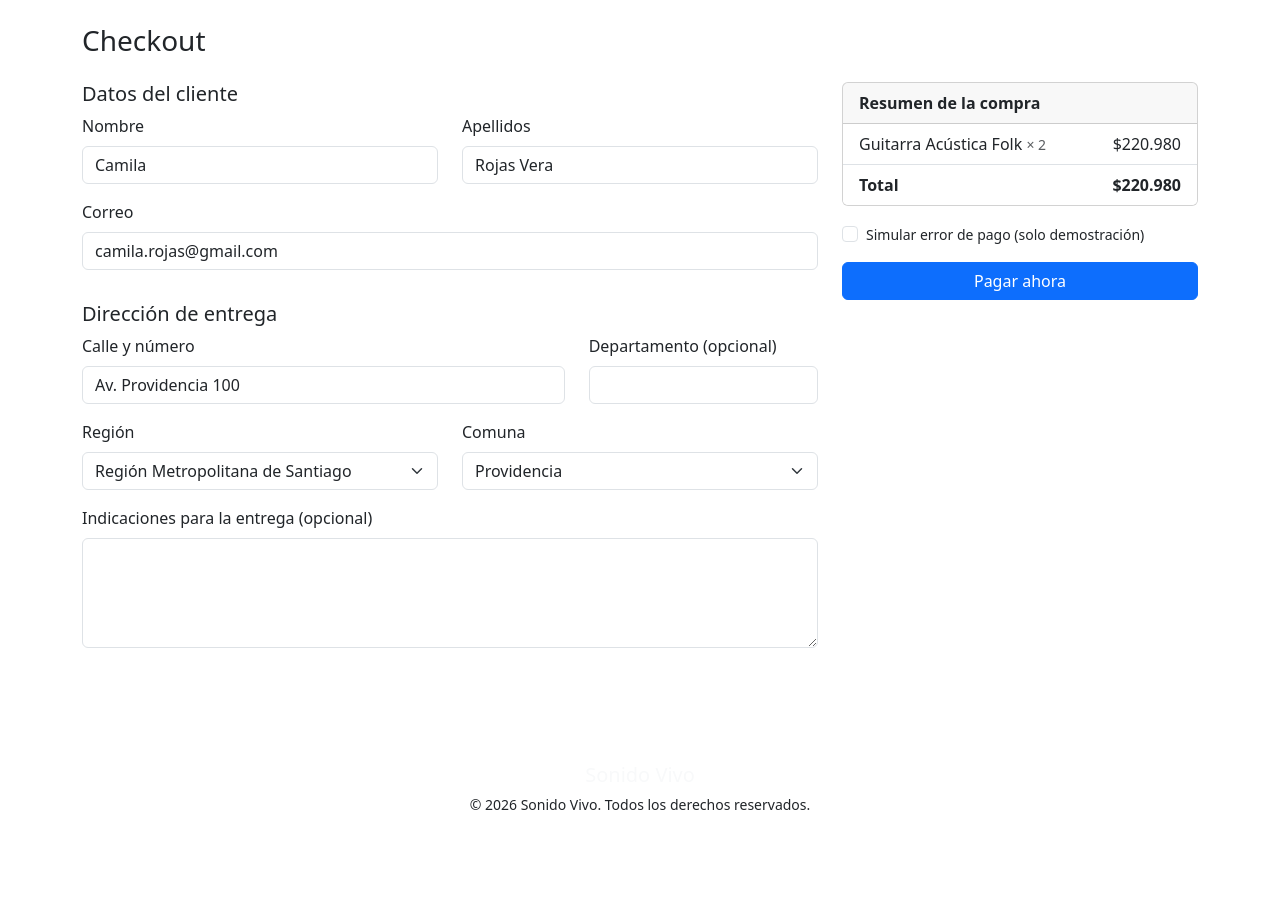
Scenario: Flujo de pago (POST /boletas) › si el backend responde 409 por stock, se muestra su mensaje y se conserva el carrito
Click the button "Pagar ahora" at point(1020, 281), box [842, 262, 1198, 300]
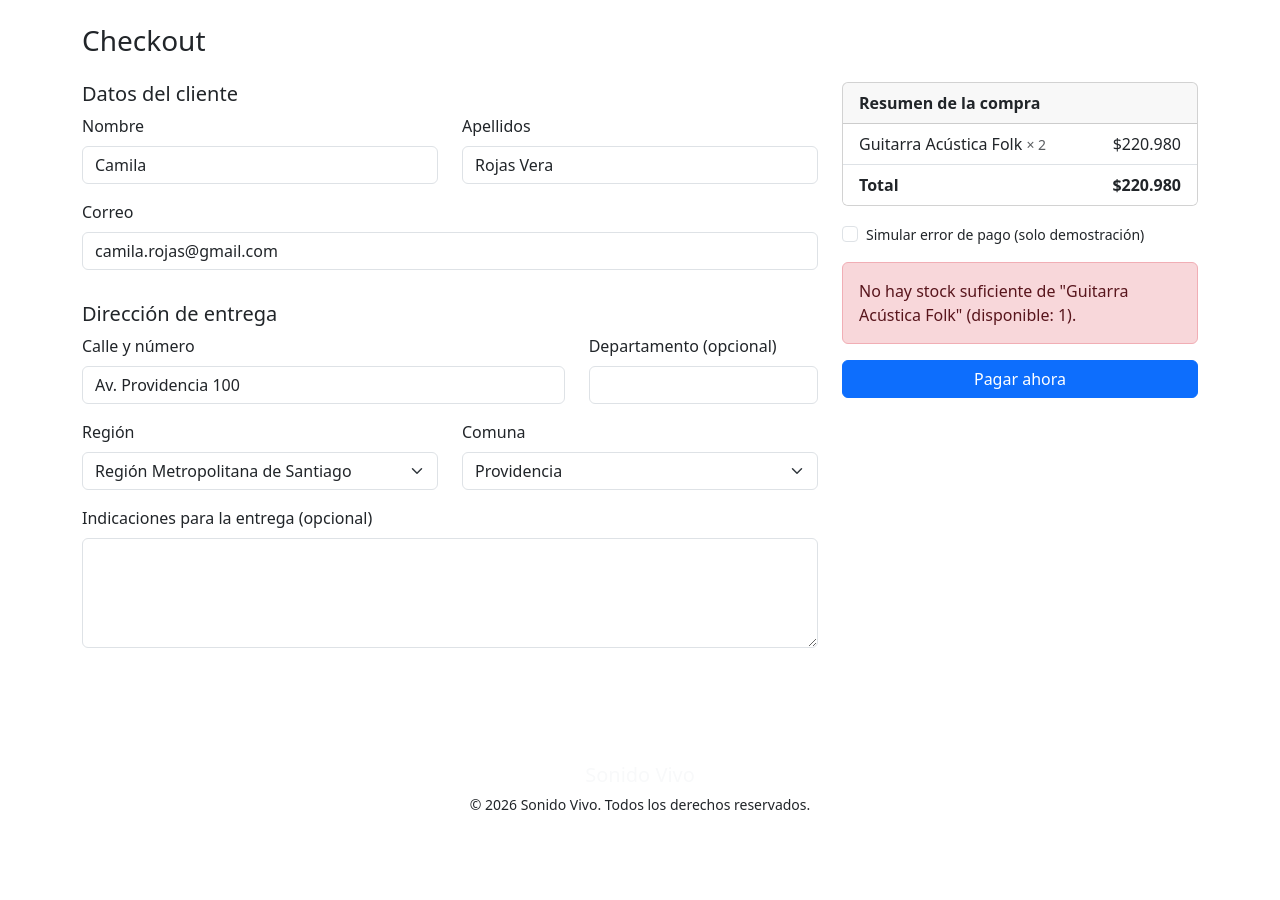
Expected: the button "Pagar ahora" is enabled, [842, 360, 1198, 398]
Expected: the text "No hay stock suficiente de \"Guitarra Acústica Folk\" (disponible: 1)." is shown, [842, 262, 1198, 344]
